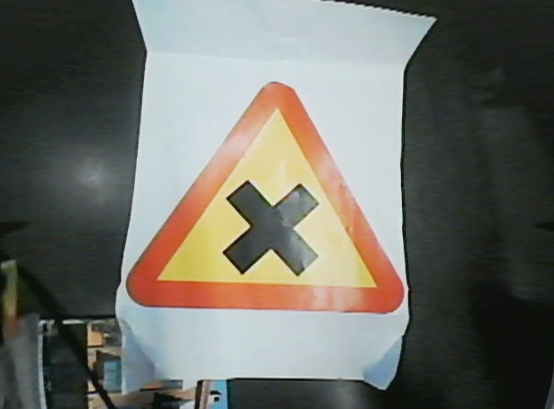junction: (120, 80, 402, 314)
